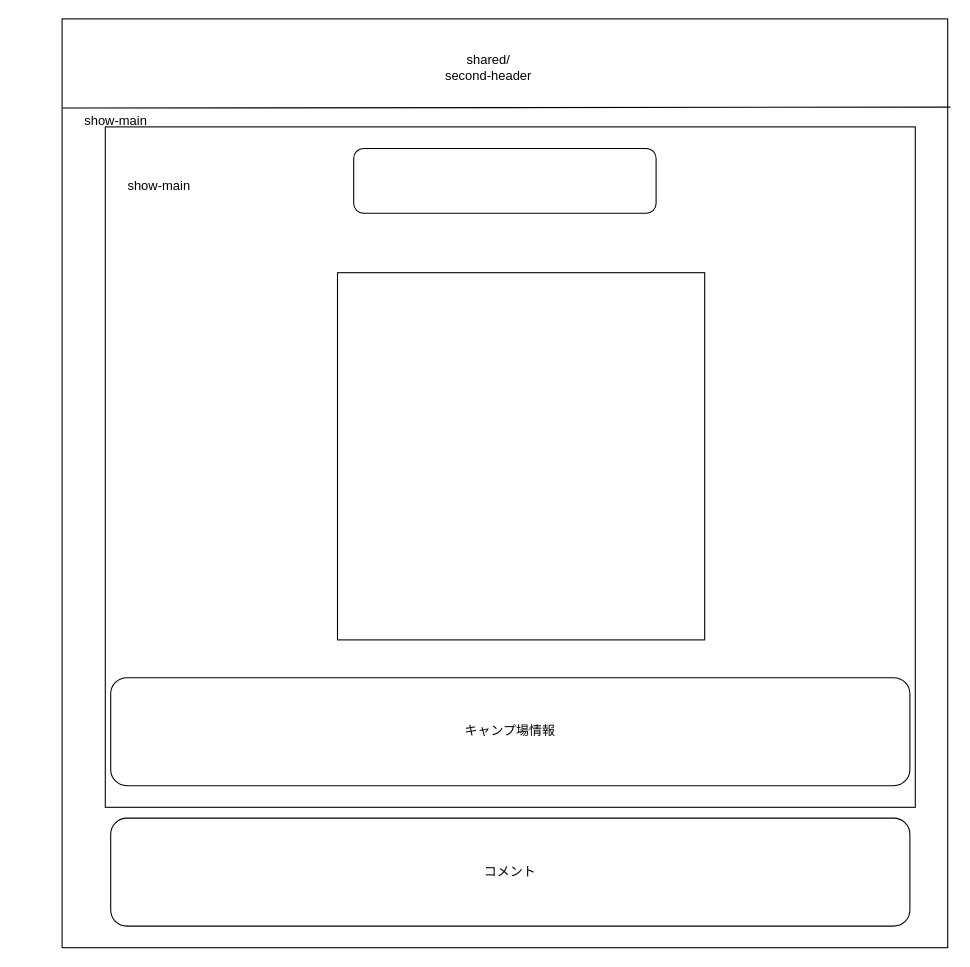
Some shapes in this 970 by 967 pixel diagram are drawn without their labels. The shapes that lost their labels are listed below. From the top down, each one's centre as x and y in pixels, then its label:
At point 504,180: "キャンプ場名".
At point 520,456: "画像".
